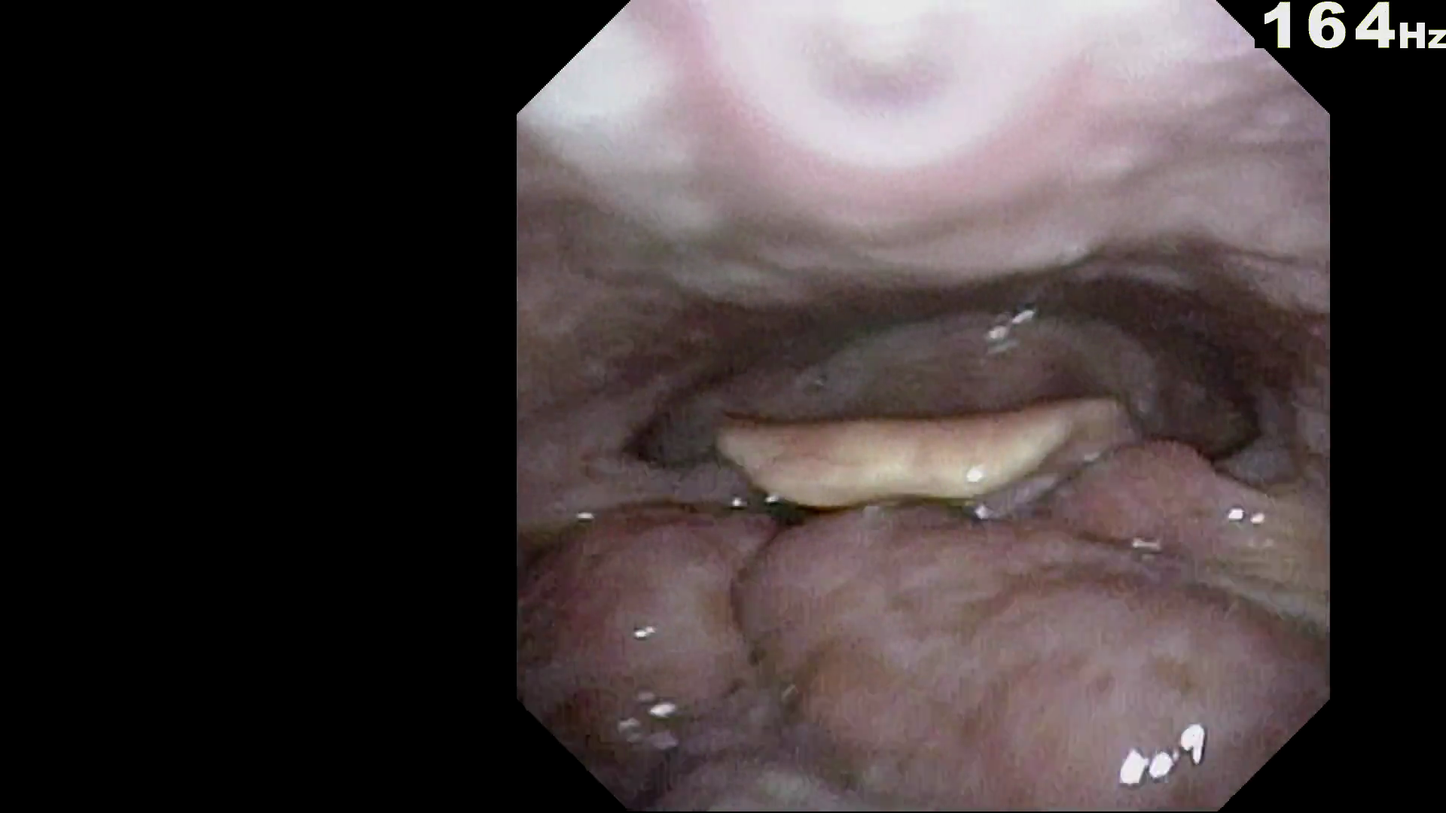epiglottis: (689, 426, 1184, 578)
trachea: (933, 445, 1051, 563)
